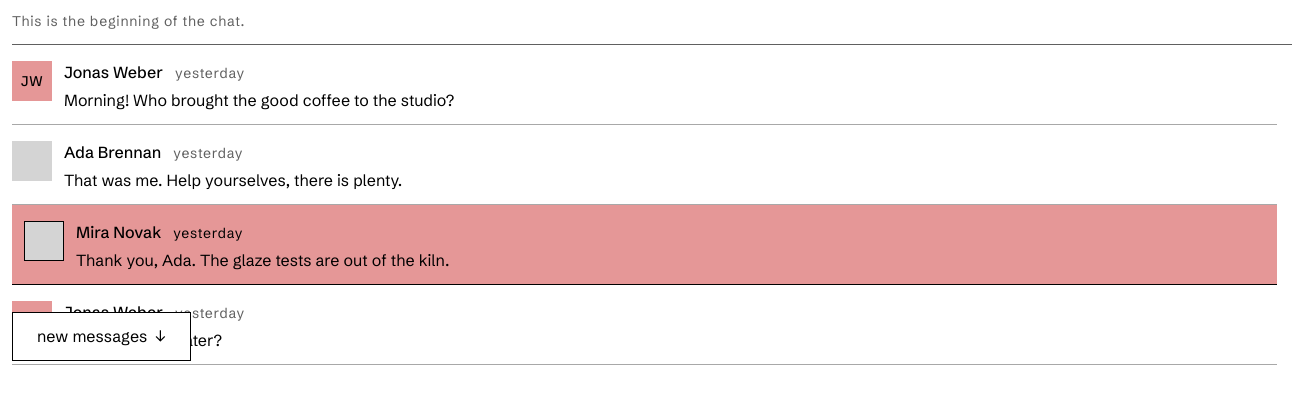
Test: ChatLog › B-85, F-81: scrolled up, a new message leaves the position alone and shows the "new messages" pill
The width and height of the screenshot is (1292, 396).
(page scrolled)
Click the button "new messages ↓" at (101, 337), box [12,312,191,361]
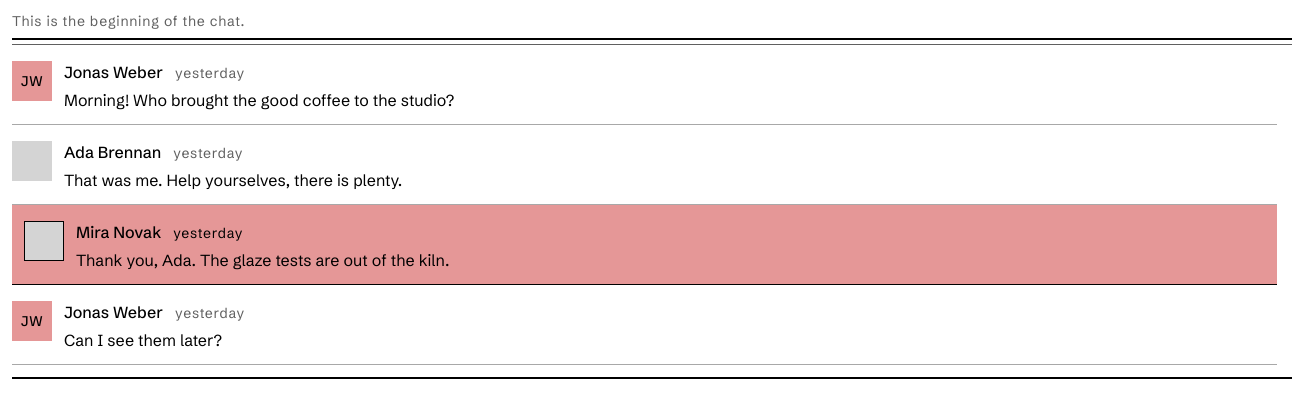
Expected: the button "new messages" is gone
